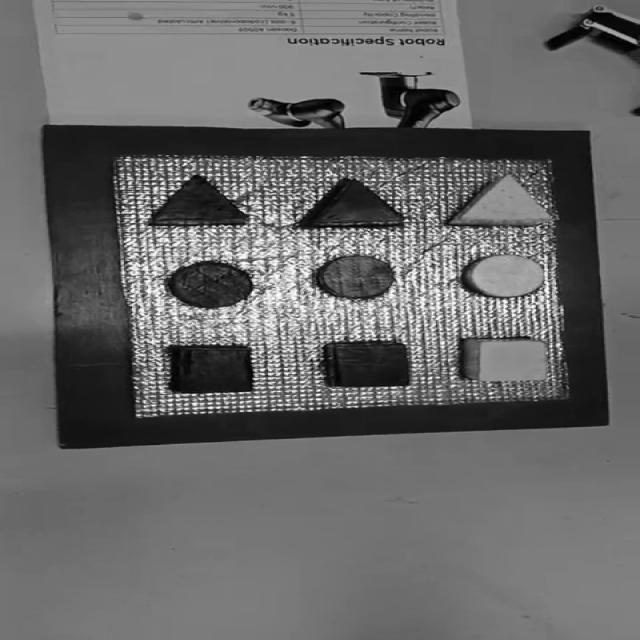bcircle: (162, 258, 260, 312)
bcube: (171, 345, 255, 393)
btriangle: (148, 176, 251, 226)
rcircle: (316, 256, 396, 298)
rcube: (321, 342, 412, 388)
rtriangle: (296, 177, 406, 228)
wb: (113, 155, 571, 413)
ycircle: (461, 251, 553, 301)
ycube: (458, 337, 551, 382)
ytriangle: (447, 172, 556, 226)
